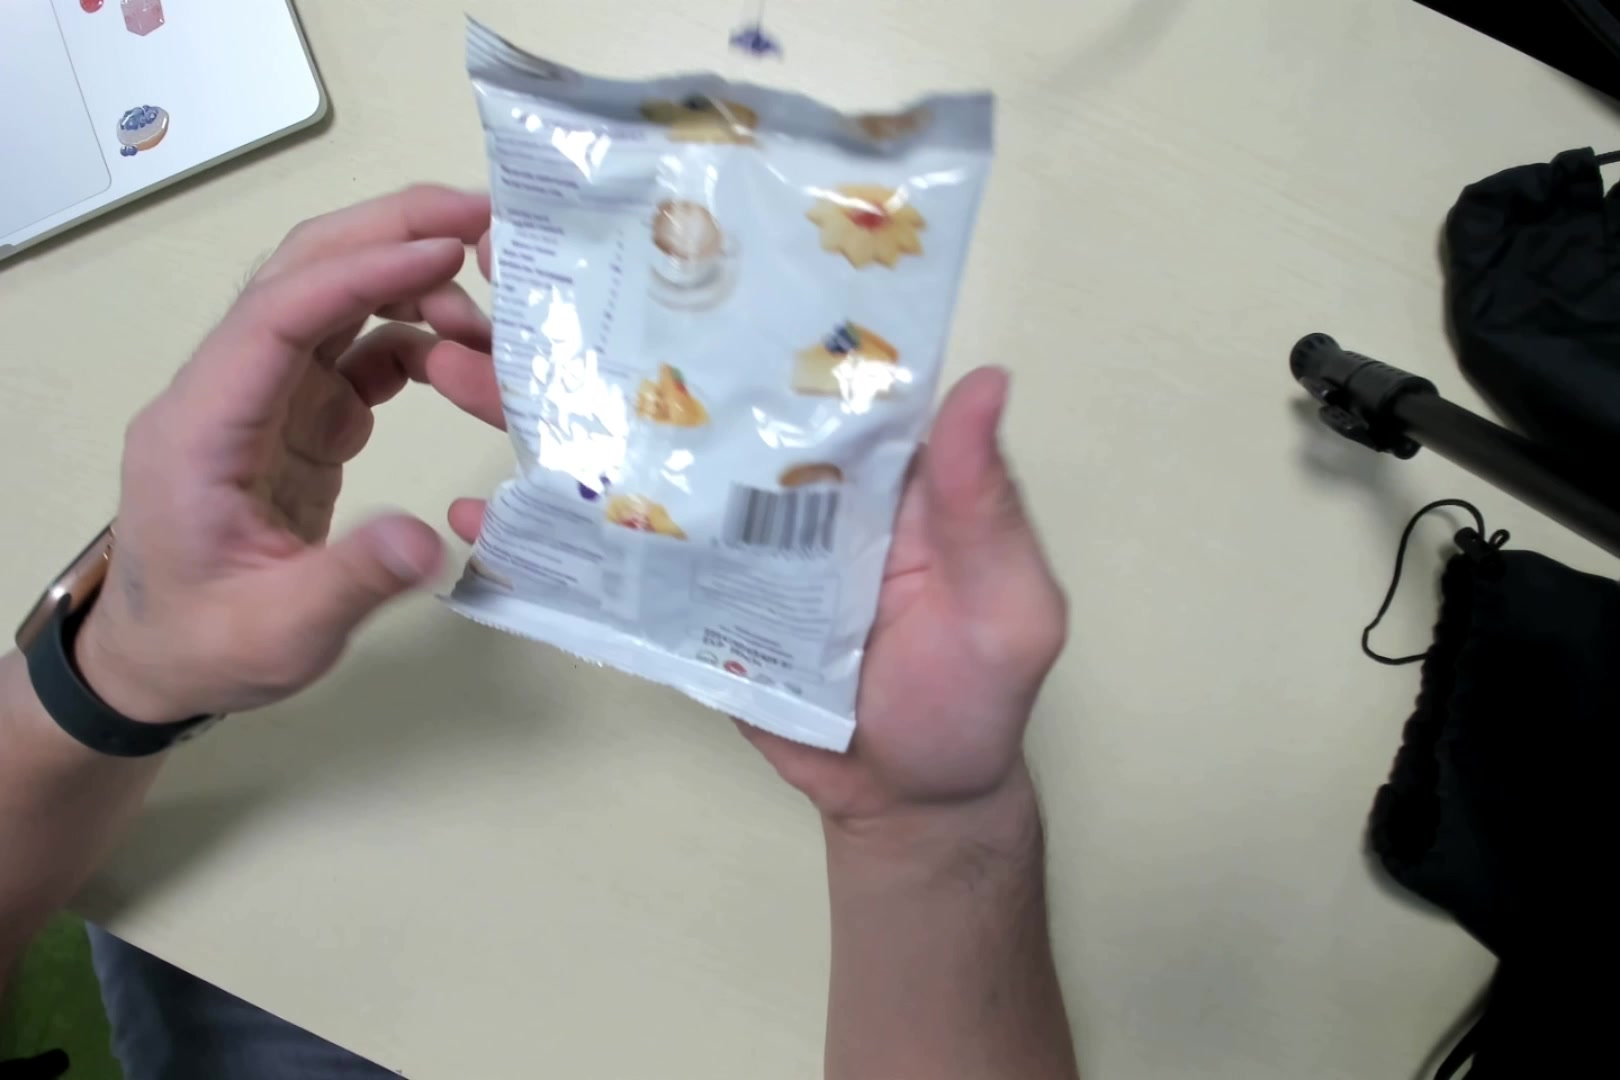OtherBakingNeeds_100-199g_Halal_NonHealthy: (434, 20, 993, 749)
